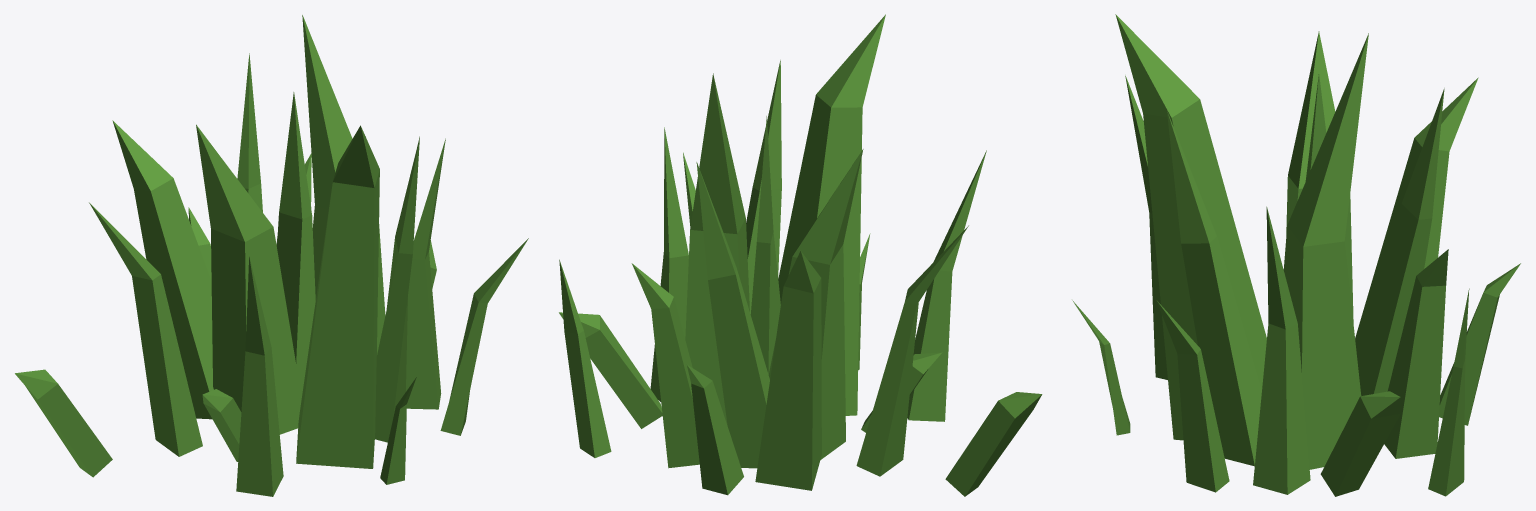
Rendered from Grass_02.fbx.
3 views of the same model, side by side, from view 1: azimuth 30°, elevation 25°; view 2: azimuth 150°, elevation 25°; view 3: azimuth 270°, elevation 25° (orthographic). The views are drawn at different scales.
Visible parts, largest first — view 1: Grass_02; view 2: Grass_02; view 3: Grass_02.
Boxes of the visible parts, x1,y1,x2,y2 form: Grass_02: [15, 15, 528, 496]; Grass_02: [559, 14, 1042, 496]; Grass_02: [1072, 14, 1520, 496].
Size of the model in its own units: 1.23 by 1 by 0.9774.
